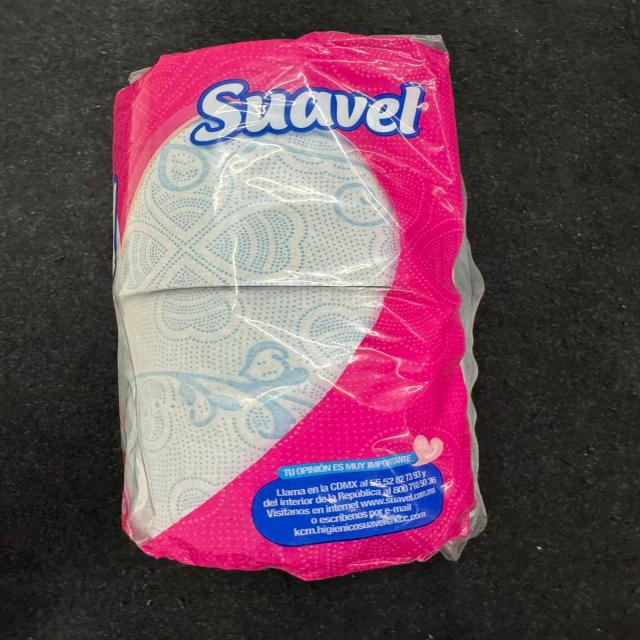Higienico Suavel 325h 4rollos: (106, 29, 491, 582)
